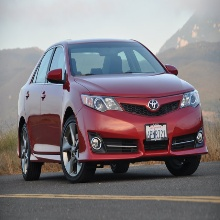no damage: (16, 38, 210, 181)
